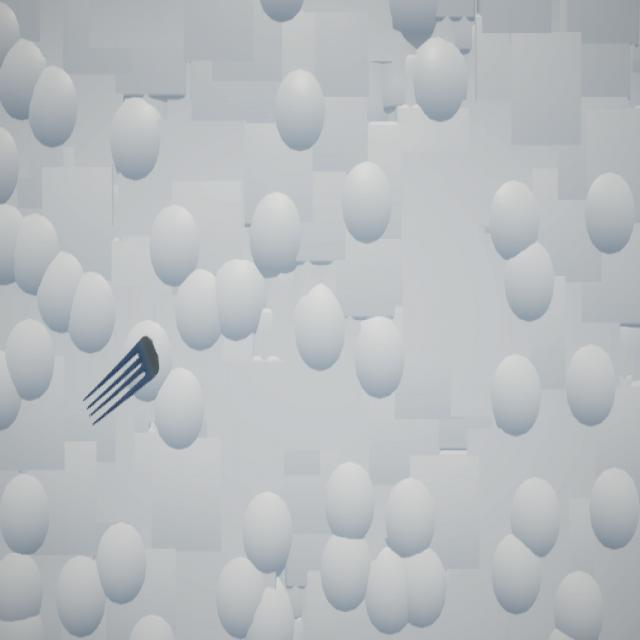top_folk: (84, 337, 160, 426)
